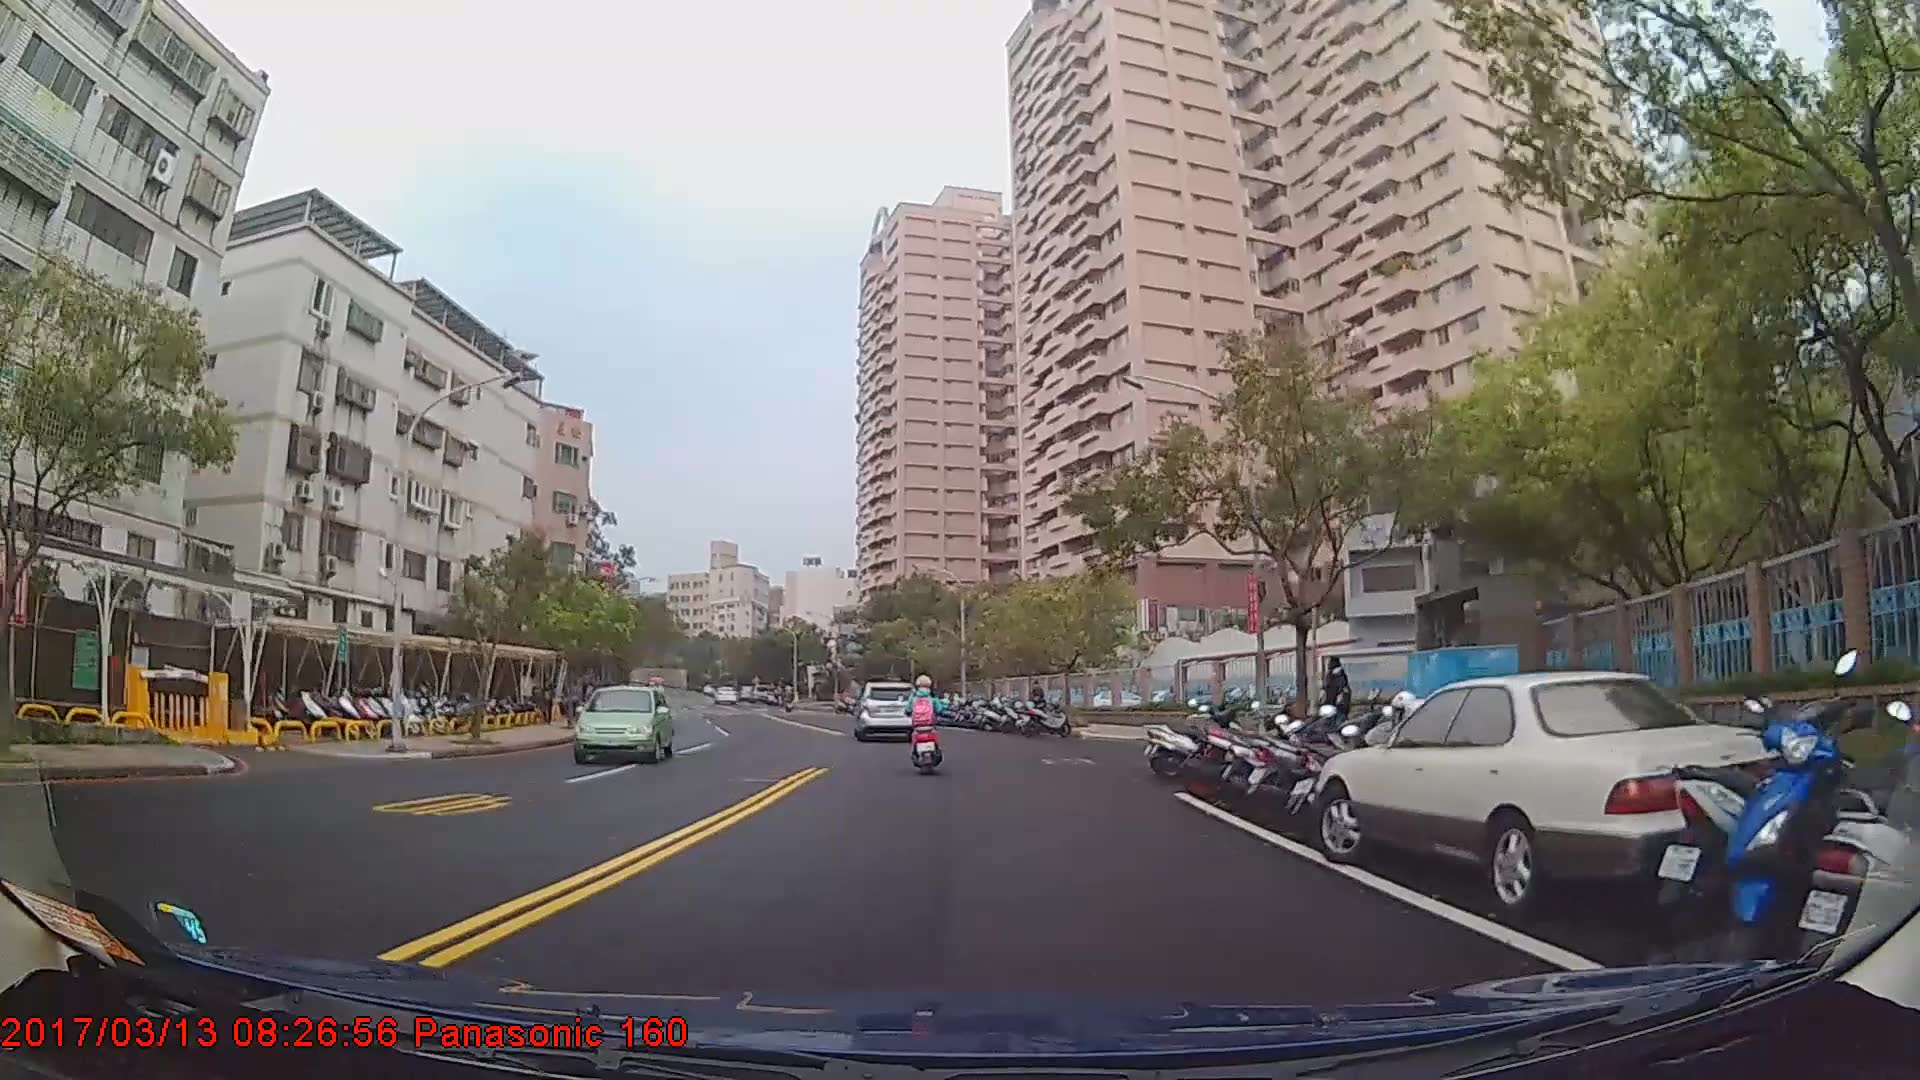pedestrian: (1322, 656, 1352, 752), (1028, 681, 1048, 728)
rider: (906, 675, 948, 778)
vehicle: (1315, 669, 1855, 920), (568, 685, 672, 764), (855, 680, 921, 742)
